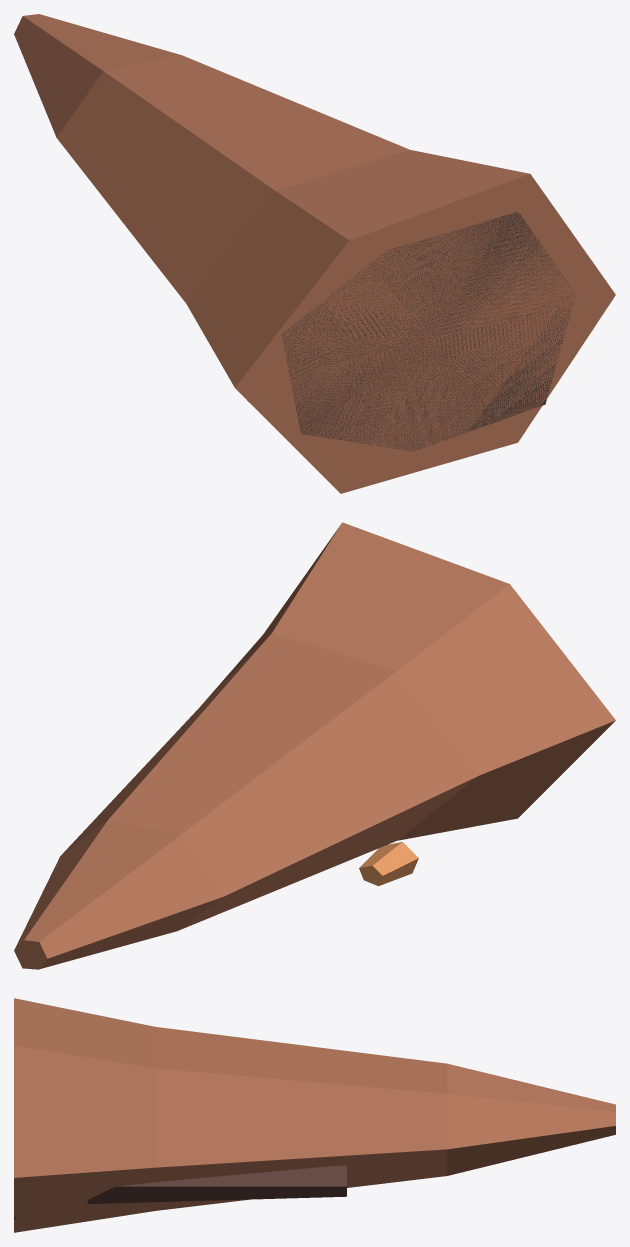
Rendered from CrashBasinSpireA.fbx.
The picture shows the model from 3 angles, top to bottom: view 1: azimuth 30°, elevation 25°; view 2: azimuth 150°, elevation 25°; view 3: azimuth 270°, elevation 25°; orthographic projection. The views are drawn at different scales.
Visible parts, largest first — view 1: SpireBody, SpireFoot; view 2: SpireBody, SpireSignal; view 3: SpireBody, SpireShadowFin.
Boxes of the visible parts, bbox=[...] form: SpireBody: bbox=[14, 14, 615, 493]; SpireFoot: bbox=[281, 212, 574, 451]; SpireBody: bbox=[14, 522, 615, 969]; SpireSignal: bbox=[359, 842, 418, 886]; SpireBody: bbox=[14, 998, 615, 1232]; SpireShadowFin: bbox=[87, 1165, 346, 1203].
Size of the model in its own units: 224 by 154 by 425.
